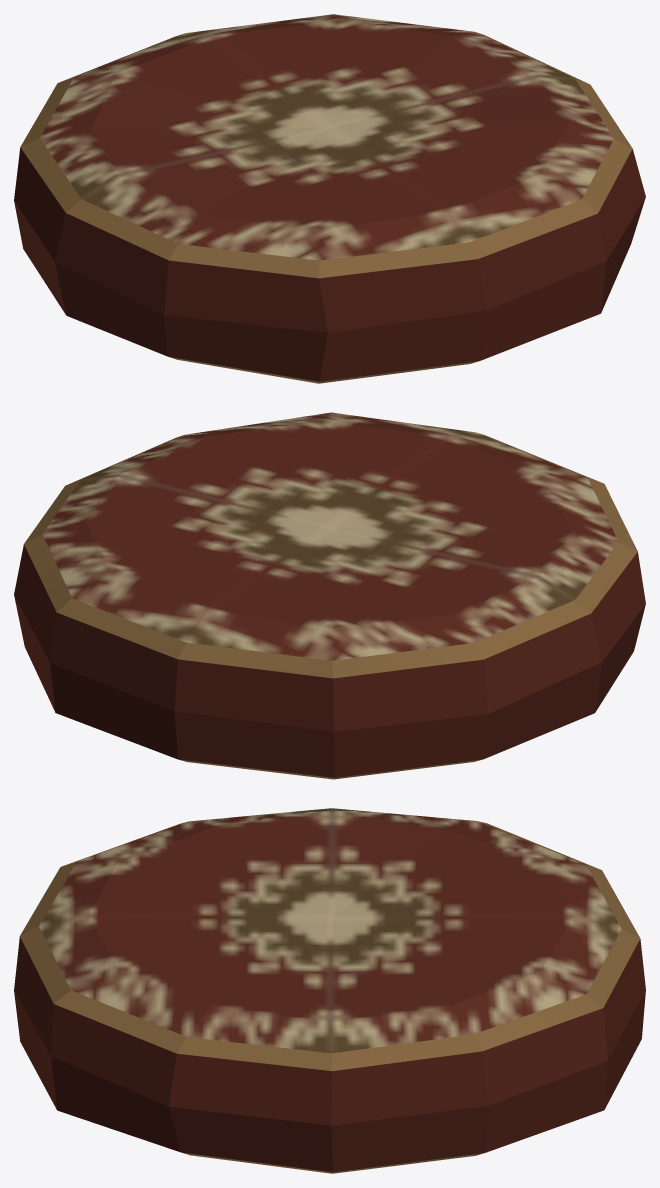
Rendered from SM_Prop_Pillow_01.fbx.
3 renders of one model, top to bottom at view 1: azimuth 30°, elevation 25°; view 2: azimuth 150°, elevation 25°; view 3: azimuth 270°, elevation 25°, orthographic.
Visible parts, largest first — view 1: SM_Prop_Pillow_01; view 2: SM_Prop_Pillow_01; view 3: SM_Prop_Pillow_01.
Part boxes in pixels (<box>): SM_Prop_Pillow_01: <box>14,14,645,383</box>; SM_Prop_Pillow_01: <box>14,412,645,779</box>; SM_Prop_Pillow_01: <box>14,808,645,1173</box>.
Size of the model in its own units: 59.25 by 15.41 by 58.78.
